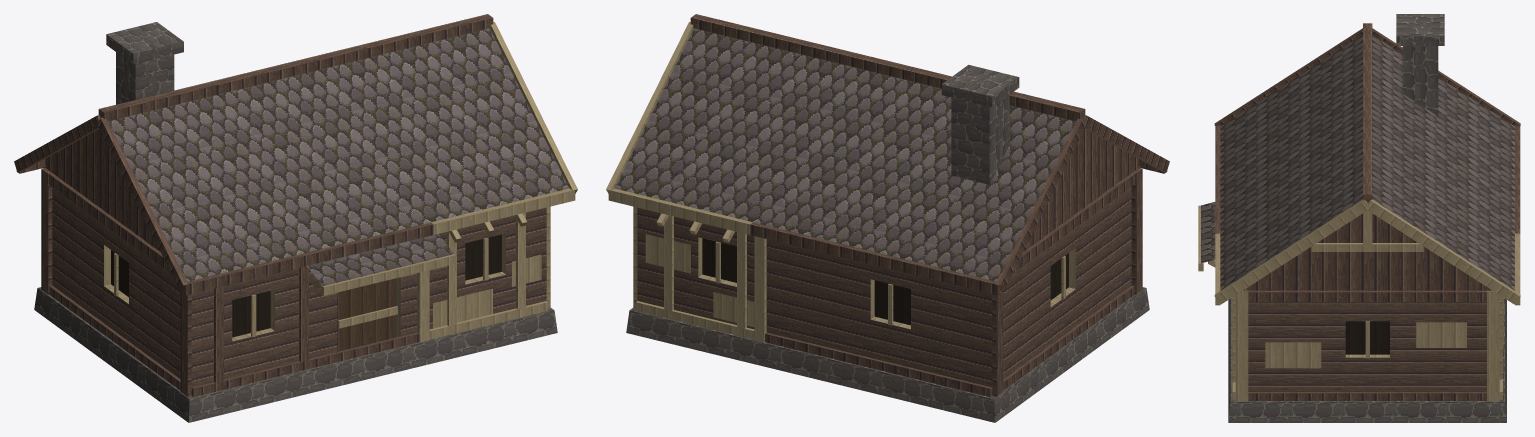
The model's file is tavern_stage1.glb.
3 renders of one model, left to right at view 1: azimuth 30°, elevation 25°; view 2: azimuth 150°, elevation 25°; view 3: azimuth 270°, elevation 25°, orthographic. The views are drawn at different scales.
Visible parts, largest first — view 1: tavern_stage1; view 2: tavern_stage1; view 3: tavern_stage1.
Part boxes in pixels (bbox=[...]): tavern_stage1: bbox=[14, 14, 577, 422]; tavern_stage1: bbox=[606, 14, 1169, 422]; tavern_stage1: bbox=[1198, 14, 1520, 422].
Bounding box in the file's own units: 7.78 × 5.5 × 6.11.
Materials: 7 (7 with a texture image).
